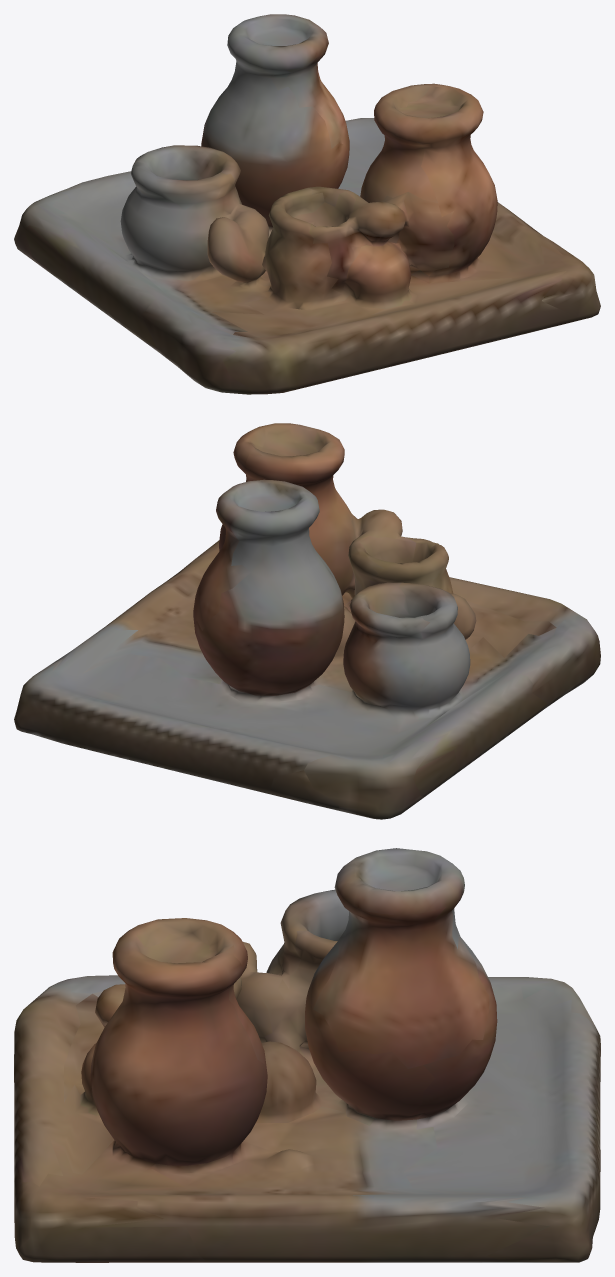
File: s07_potes_barro.glb
The picture shows the model from 3 angles, top to bottom: view 1: azimuth 30°, elevation 25°; view 2: azimuth 150°, elevation 25°; view 3: azimuth 270°, elevation 25°; orthographic projection. The views are drawn at different scales.
Visible parts, largest first — view 1: s07_potes_barro; view 2: s07_potes_barro; view 3: s07_potes_barro.
Part boxes in pixels (x1,y1,x2,y2): s07_potes_barro: (14,14,600,394); s07_potes_barro: (14,423,600,819); s07_potes_barro: (14,848,600,1262).
Size of the model in its own units: 1.01 by 0.5585 by 1.05.
Materials: 1 (1 with a texture image).
